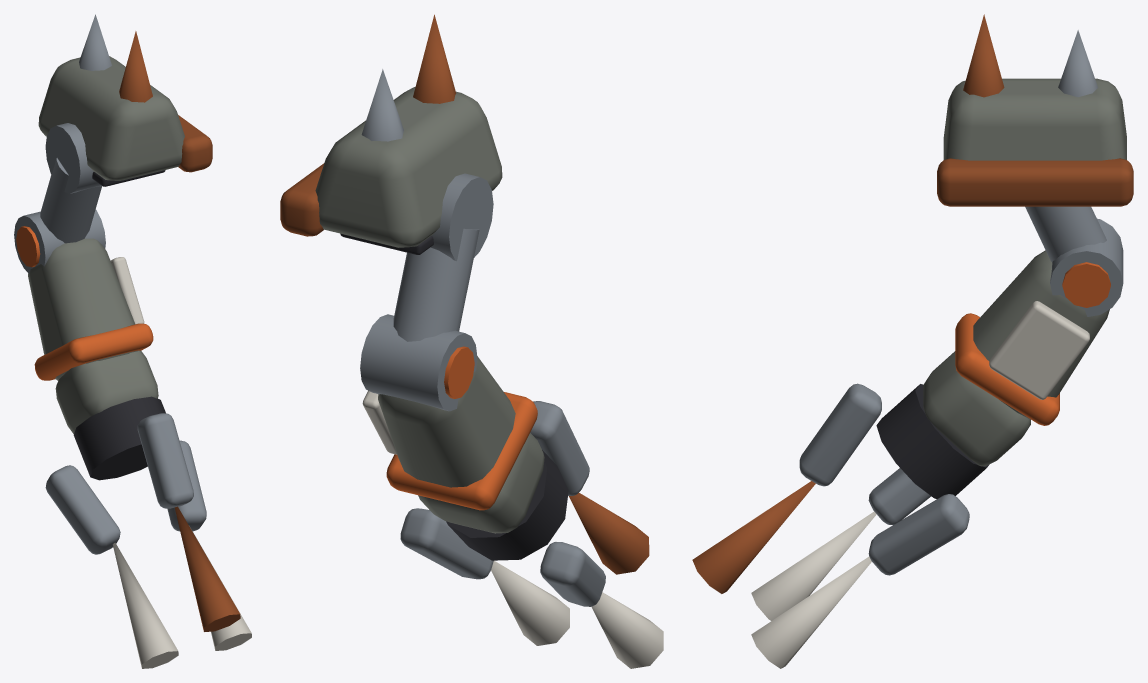
The model's file is ar_ripper.glb.
3 renders of one model, left to right at view 1: azimuth 30°, elevation 25°; view 2: azimuth 150°, elevation 25°; view 3: azimuth 270°, elevation 25°, orthographic. The views are drawn at different scales.
Parts seen in each view (by area): view 1: ar_ripper; view 2: ar_ripper; view 3: ar_ripper.
Boxes of the visible parts, box(x1,y1,x2,y2) form: ar_ripper: box(14, 14, 251, 668); ar_ripper: box(280, 14, 663, 668); ar_ripper: box(692, 14, 1133, 668).
Bounding box in the file's own units: 0.2184 × 0.7212 × 0.4442.
